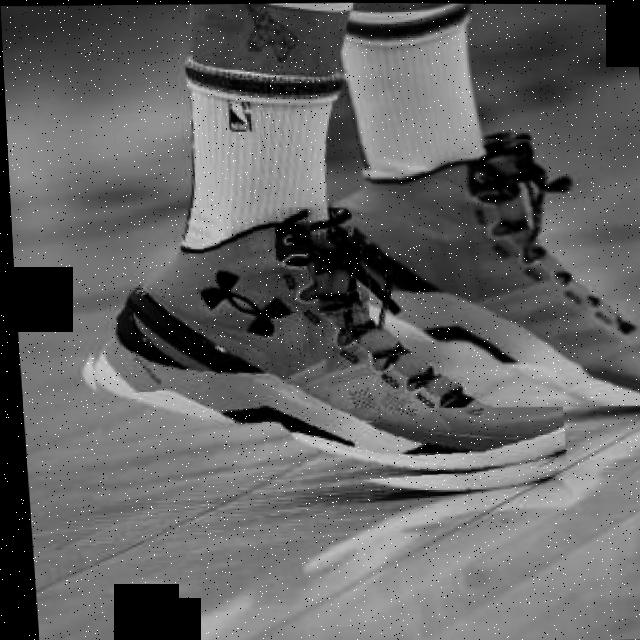shoe: (68, 201, 563, 500), (295, 126, 640, 410)
